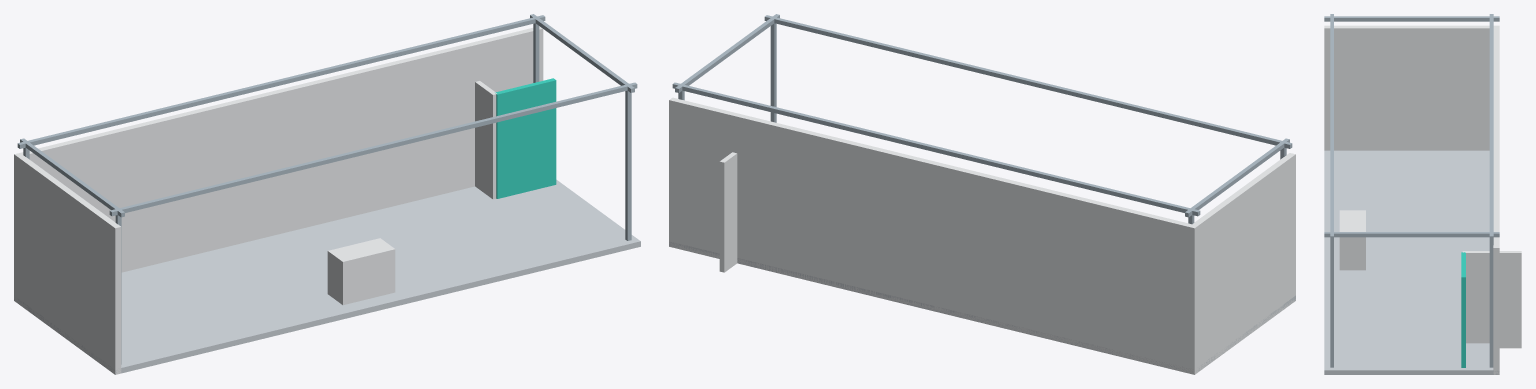
3 views of the same model, side by side, from view 1: azimuth 30°, elevation 25°; view 2: azimuth 150°, elevation 25°; view 3: azimuth 270°, elevation 25° (orthographic). The views are drawn at different scales.
Visible parts, largest first — view 1: Exhibition Booth Concept; view 2: Exhibition Booth Concept; view 3: Exhibition Booth Concept.
Part boxes in pixels (<box>): Exhibition Booth Concept: <box>14,14,640,374</box>; Exhibition Booth Concept: <box>669,14,1295,374</box>; Exhibition Booth Concept: <box>1324,14,1521,374</box>.
Size of the model in its own units: 12 by 3.49 by 4.51.
